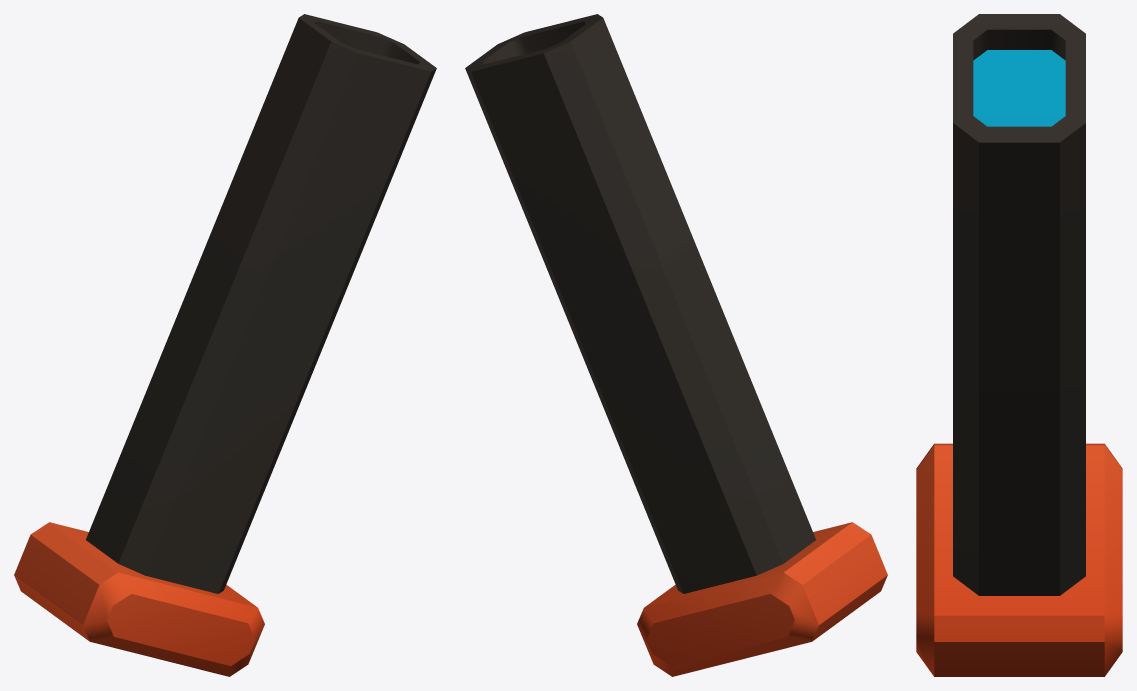
Rendered from Pistol1_MagazineExtended.fbx.
3 views of the same model, side by side, from view 1: azimuth 30°, elevation 25°; view 2: azimuth 150°, elevation 25°; view 3: azimuth 270°, elevation 25° (orthographic). The views are drawn at different scales.
Visible parts, largest first — view 1: Pistol1_MagazineExtended; view 2: Pistol1_MagazineExtended; view 3: Pistol1_MagazineExtended.
Part boxes in pixels (box(x1,y1,x2,y2)): Pistol1_MagazineExtended: box(14, 14, 436, 676); Pistol1_MagazineExtended: box(465, 14, 887, 676); Pistol1_MagazineExtended: box(916, 14, 1122, 676).
Bounding box in the file's own units: 13.94 × 21.22 × 5.41.
